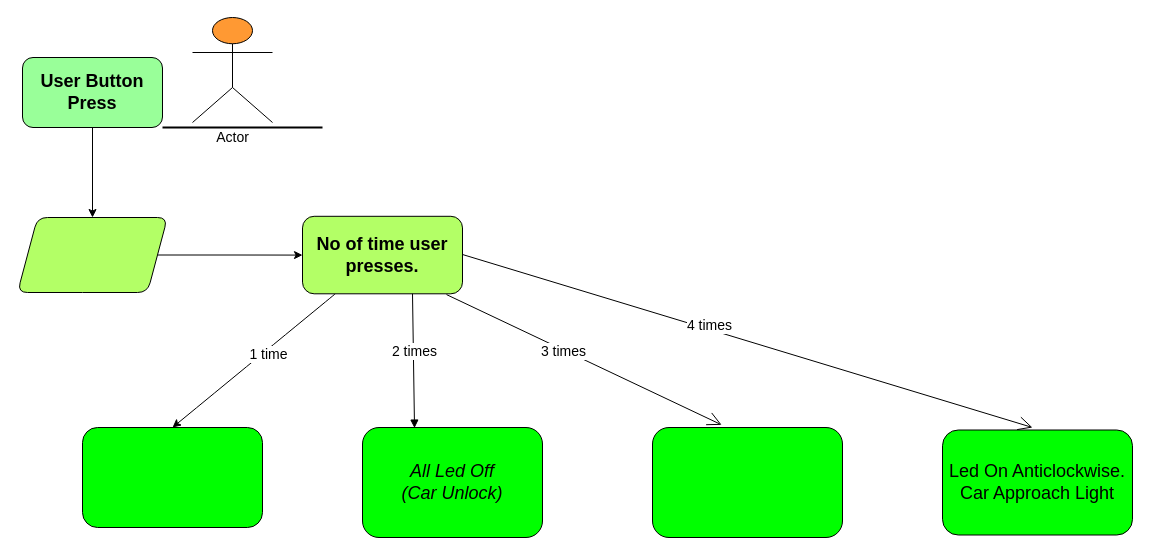
The diagram is 1150 pixels wide and 555 high, and some of its shapes have lost their labels. Each missing label, with the centre of its shape:
"All Led On (car lock)" goes at pixel 172 477.
"Encryption" goes at pixel 92 254.
"Led On clockwise Car Alarm Activation / Deactivation" goes at pixel 747 482.
